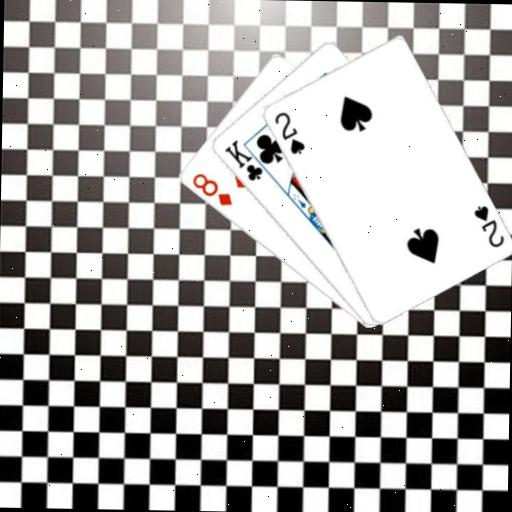2S: (271, 108, 307, 156), (470, 202, 506, 250)
8D: (188, 170, 234, 208)
KC: (221, 136, 274, 183)
